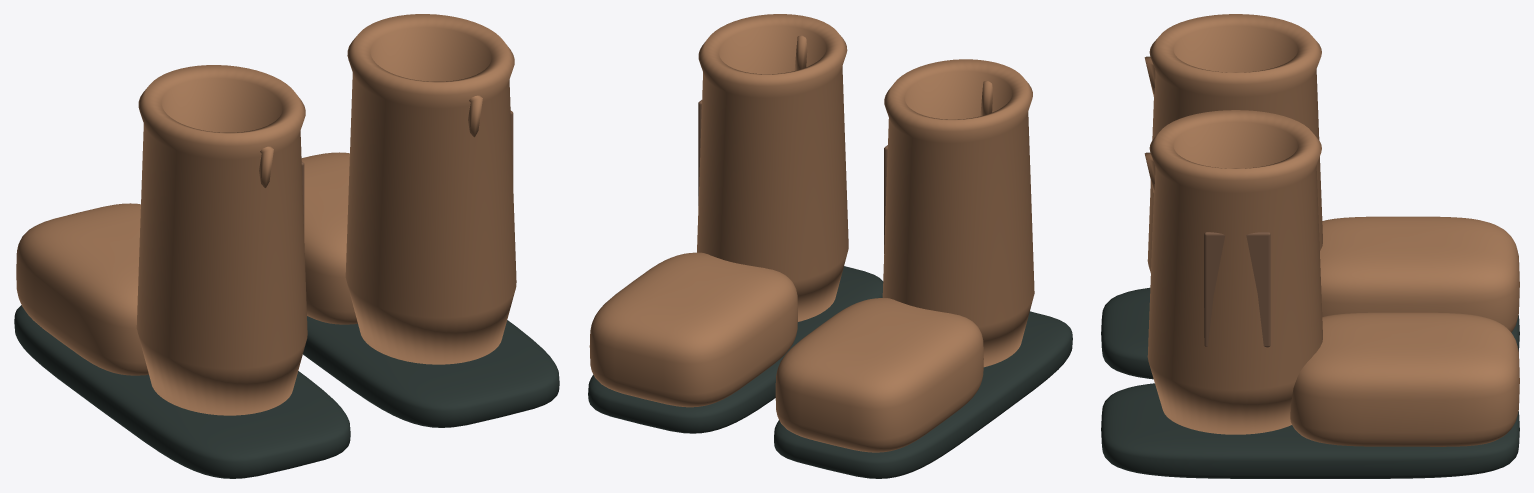
The model's file is Boots.glb.
The picture shows the model from 3 angles, left to right: view 1: azimuth 30°, elevation 25°; view 2: azimuth 150°, elevation 25°; view 3: azimuth 270°, elevation 25°; orthographic projection. The views are drawn at different scales.
Visible parts, largest first — view 1: Boots_Mesh; view 2: Boots_Mesh; view 3: Boots_Mesh.
Boxes of the visible parts, x1,y1,x2,y2 form: Boots_Mesh: (14, 14, 559, 478); Boots_Mesh: (588, 14, 1072, 478); Boots_Mesh: (1101, 14, 1519, 478).
Size of the model in its own units: 0.254 by 0.209 by 0.258.
